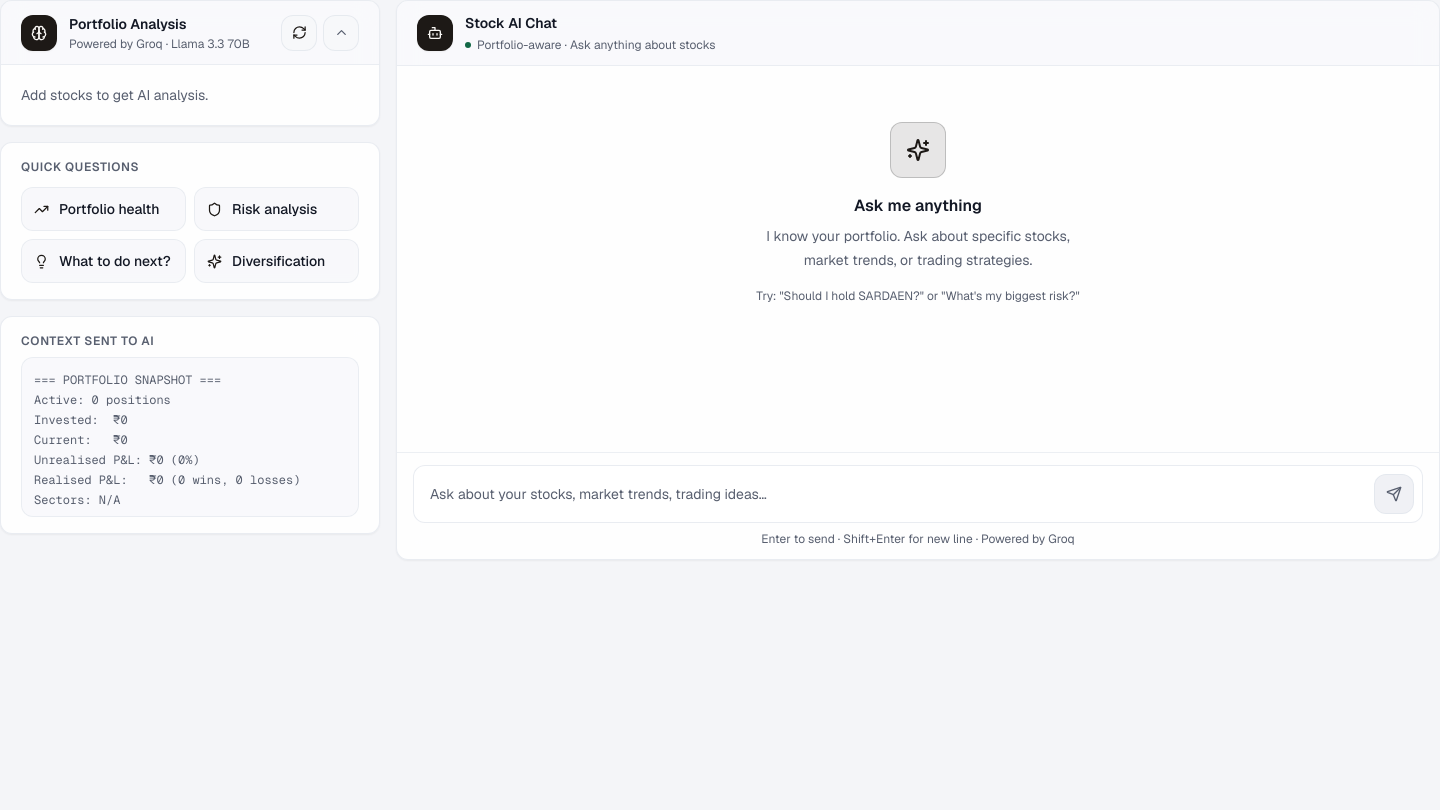
Test case: AIInsights accessibility › exposes analysis expansion state and its controlled region
This screenshot has width=1440, height=810.
Click the button named "Collapse portfolio analysis": (341,32) 323,14 -> 359,50
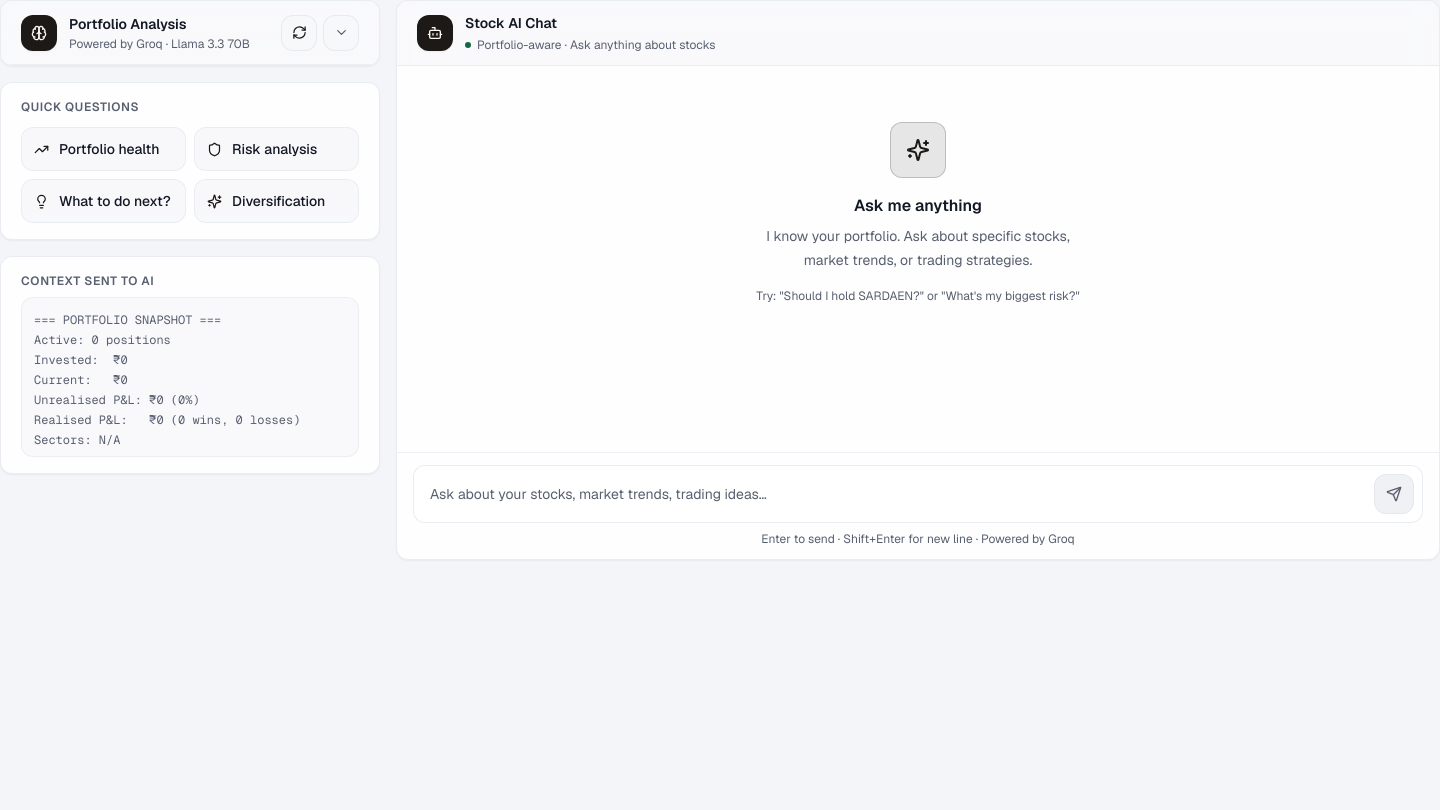
Result: the button named "Expand portfolio analysis" is collapsed at 323,14 -> 359,50
